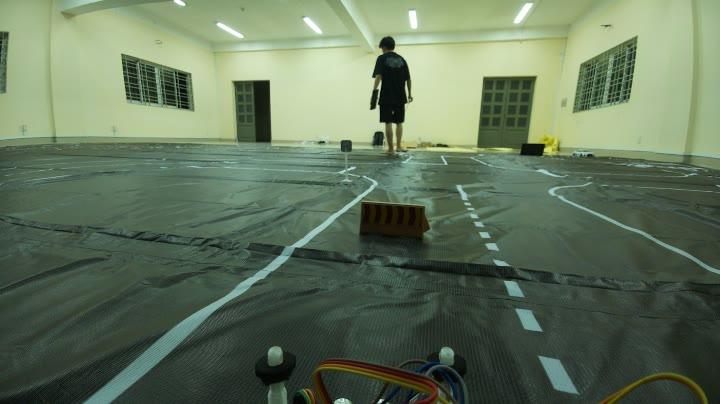roadblock: (351, 192, 432, 248)
